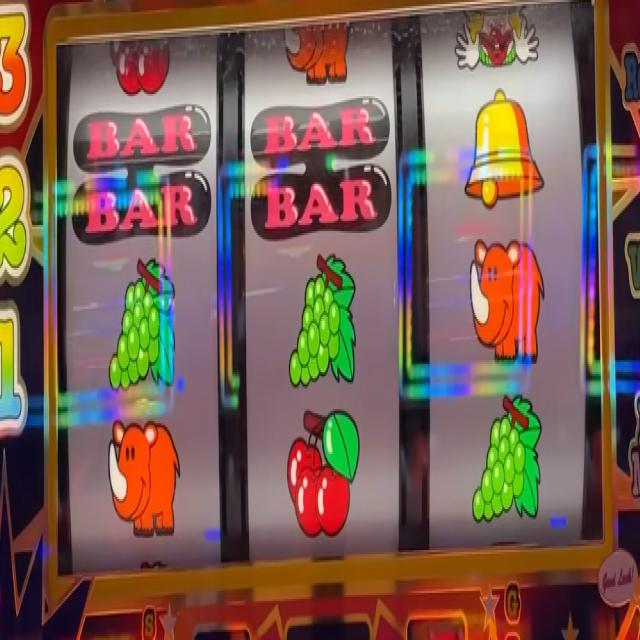bar: (249, 96, 392, 242), (70, 104, 212, 246)
bell: (464, 85, 545, 209)
cherry: (285, 403, 361, 544), (106, 38, 174, 98)
clown: (452, 9, 540, 74)
display: (56, 2, 604, 574)
elephant: (468, 236, 546, 366), (108, 415, 180, 537), (282, 24, 351, 87)
grape: (471, 388, 543, 528), (288, 249, 357, 392), (108, 255, 176, 399)
